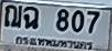letters: (4, 4, 22, 28), (23, 5, 40, 30), (55, 8, 70, 33), (71, 9, 85, 34), (86, 9, 100, 34)
province: (15, 35, 94, 51)
